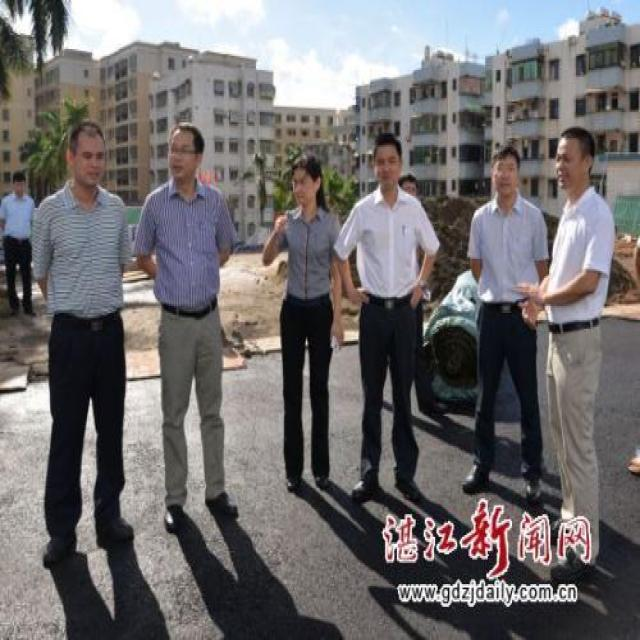no-helmet: (553, 122, 600, 198), (63, 116, 111, 190), (168, 117, 206, 189), (369, 129, 407, 196), (290, 148, 326, 212), (489, 138, 522, 206), (9, 168, 31, 203)
